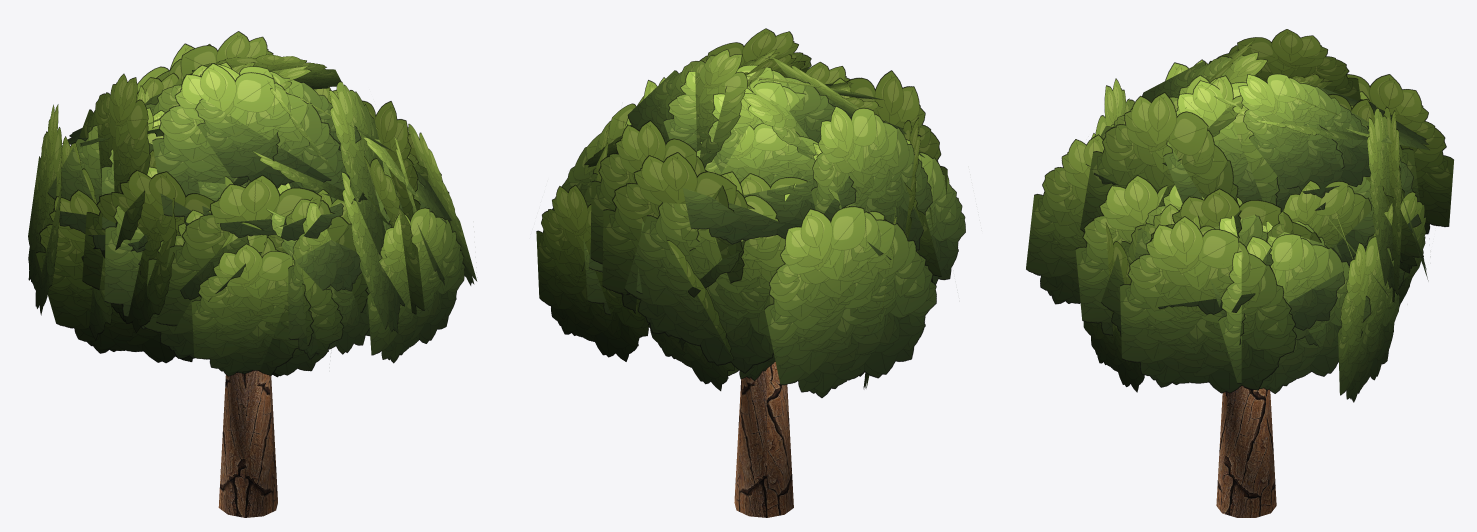
The model's file is prop_oak.glb.
The picture shows the model from 3 angles, left to right: view 1: azimuth 30°, elevation 25°; view 2: azimuth 150°, elevation 25°; view 3: azimuth 270°, elevation 25°; orthographic projection.
Parts seen in each view (by area): view 1: leaf_top_15, leaf_l2_7, leaf_l0_8, leaf_top_7, trunk, leaf_l1_6, leaf_top_16, leaf_top_5, leaf_top_6, leaf_top_9, leaf_l1_4, leaf_l2_8 (+20 smaller); view 2: leaf_l1_4, leaf_l1_3, leaf_top_5, leaf_l0_2, leaf_l1_12, trunk, leaf_top_3, leaf_top_11, leaf_top_2, leaf_top_12, leaf_l2_5, leaf_top_7 (+12 smaller); view 3: leaf_l0_0, leaf_top_11, leaf_top_9, leaf_l0_1, leaf_l2_9, trunk, leaf_l0_2, leaf_l2_0, leaf_l1_4, leaf_top_10, leaf_top_5, leaf_top_1 (+18 smaller).
Boxes of the visible parts, bbox=[...] form: leaf_top_15: bbox=[152, 63, 349, 225]; leaf_l2_7: bbox=[191, 243, 343, 376]; leaf_l0_8: bbox=[367, 207, 465, 363]; leaf_top_7: bbox=[156, 175, 368, 326]; trunk: bbox=[218, 370, 277, 517]; leaf_l1_6: bbox=[35, 189, 192, 363]; leaf_top_16: bbox=[195, 64, 361, 188]; leaf_top_5: bbox=[79, 73, 150, 258]; leaf_top_6: bbox=[82, 170, 214, 322]; leaf_top_9: bbox=[329, 81, 386, 257]; leaf_l1_4: bbox=[28, 104, 61, 315]; leaf_l2_8: bbox=[288, 201, 369, 359]; leaf_l1_4: bbox=[764, 206, 936, 397]; leaf_l1_3: bbox=[624, 171, 785, 373]; leaf_top_5: bbox=[811, 106, 932, 250]; leaf_l0_2: bbox=[536, 184, 649, 361]; leaf_l1_12: bbox=[682, 123, 856, 244]; trunk: bbox=[734, 362, 793, 517]; leaf_top_3: bbox=[602, 152, 754, 324]; leaf_top_11: bbox=[627, 49, 747, 167]; leaf_top_2: bbox=[590, 120, 762, 294]; leaf_top_12: bbox=[663, 65, 834, 150]; leaf_l2_5: bbox=[906, 139, 965, 284]; leaf_top_7: bbox=[846, 70, 947, 197]; leaf_l0_0: bbox=[1120, 216, 1316, 393]; leaf_top_11: bbox=[1238, 73, 1370, 198]; leaf_top_9: bbox=[1080, 92, 1241, 237]; leaf_l0_1: bbox=[1218, 233, 1371, 393]; leaf_l2_9: bbox=[1026, 134, 1104, 304]; trunk: bbox=[1216, 386, 1276, 517]; leaf_l0_2: bbox=[1338, 236, 1399, 402]; leaf_l2_0: bbox=[1075, 175, 1167, 335]; leaf_l1_4: bbox=[1346, 74, 1453, 234]; leaf_top_10: bbox=[1163, 80, 1344, 211]; leaf_top_5: bbox=[1208, 29, 1360, 101]; leaf_top_1: bbox=[1266, 180, 1371, 248].
Size of the model in its own units: 3.78 by 3.97 by 3.52.
Materials: 2 (2 with a texture image).
